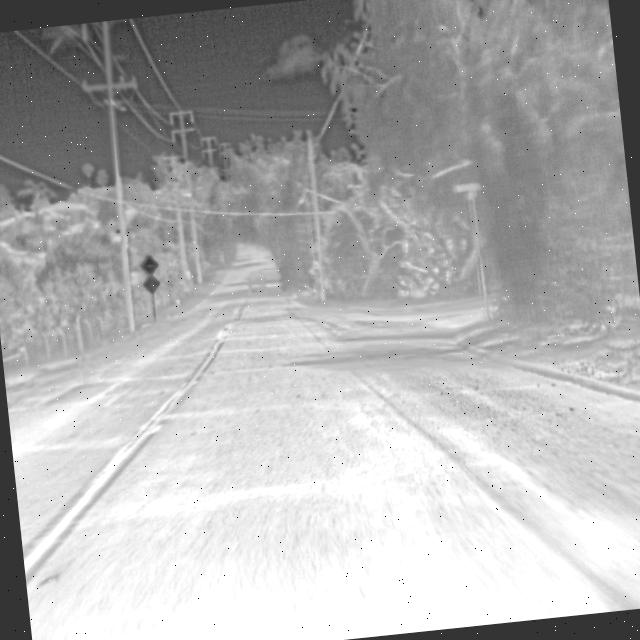Vehicle: (243, 268, 270, 297)
